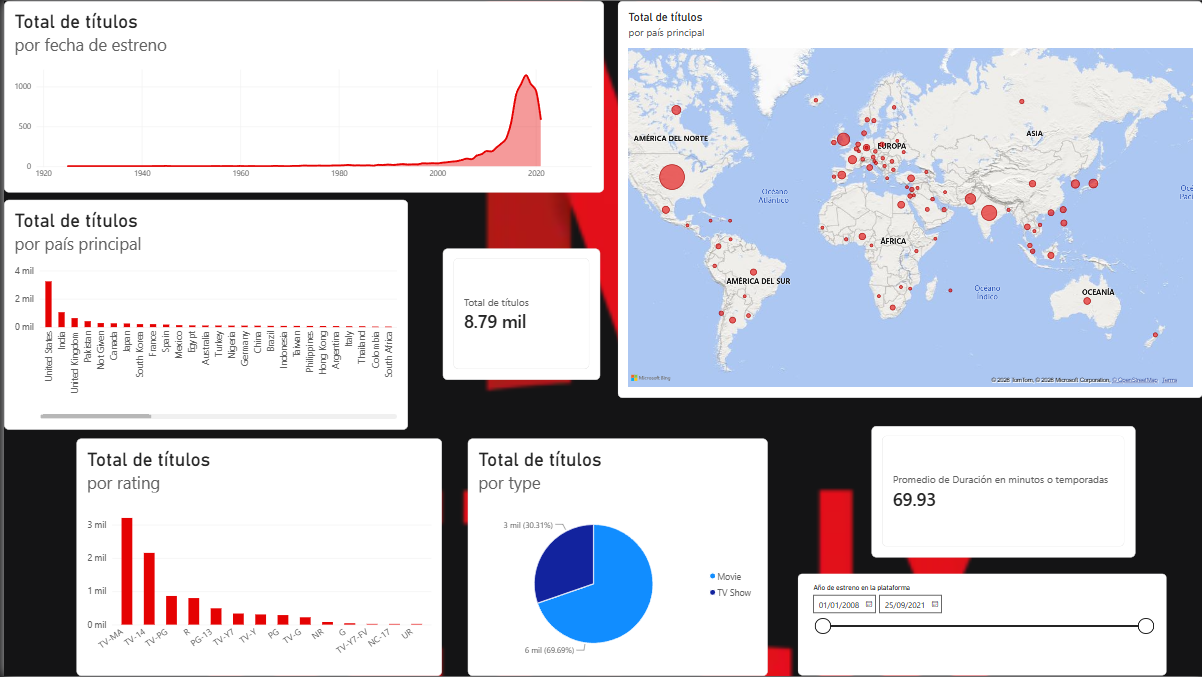

The page's visual inventory and layout, read from the dashboard file:
{"tool":"powerbi","page":{"name":"Análisis global","canvas":[1920,1080],"ordinal":0},"visuals":[{"type":"stackedAreaChart","title":"Total de títulos ","fields":{"Category":["netflix1_limpio.año estreno"],"Y":["netflix1_limpio.Total de títulos"]},"box":[0,0,960,306.7],"z":0},{"type":"clusteredColumnChart","title":"Total de títulos ","fields":{"Category":["netflix1_limpio.main_country"],"Y":["netflix1_limpio.Total de títulos"]},"box":[0,318,646,368],"z":1},{"type":"clusteredColumnChart","fields":{"Category":["netflix1_limpio.rating"],"Y":["netflix1_limpio.Total de títulos"]},"box":[115,700,585,380],"z":2},{"type":"cardVisual","fields":{"Data":["netflix1_limpio.Total de títulos"]},"box":[702,396,252,210],"z":3},{"type":"map","title":"Total de títulos","fields":{"Category":["netflix1_limpio.main_country"],"Size":["netflix1_limpio.Total de títulos"]},"box":[982.5,0,937.5,635],"z":4},{"type":"pieChart","fields":{"Category":["netflix1_limpio.type"],"Y":["netflix1_limpio.Total de títulos"]},"box":[742.5,700,480,380],"z":5},{"type":"cardVisual","fields":{"Data":["Avg(netflix1_limpio.Duración en minutos o temporadas)"]},"box":[1388.3,680,422,210],"z":6},{"type":"slicer","fields":{"Values":["netflix1_limpio.date_added"]},"box":[1270,916,590,163.3],"z":7}]}

Visuals, with their boxes in screenshot pixels (x1, y1, x2, y2), scaled from the page's 1920x1080 canvas onto the 1202x677 screenshot:
"Total de títulos " stackedAreaChart: (0, 0, 601, 192)
"Total de títulos " clusteredColumnChart: (0, 199, 404, 430)
clusteredColumnChart - netflix1_limpio.rating x netflix1_limpio.Total de títulos: (72, 439, 438, 676)
cardVisual - netflix1_limpio.Total de títulos: (439, 248, 597, 380)
"Total de títulos" map: (615, 0, 1201, 398)
pieChart - netflix1_limpio.type x netflix1_limpio.Total de títulos: (465, 439, 765, 676)
cardVisual - Avg(netflix1_limpio.Duración en minutos o temporadas): (869, 426, 1133, 558)
slicer - netflix1_limpio.date_added: (795, 574, 1164, 676)
